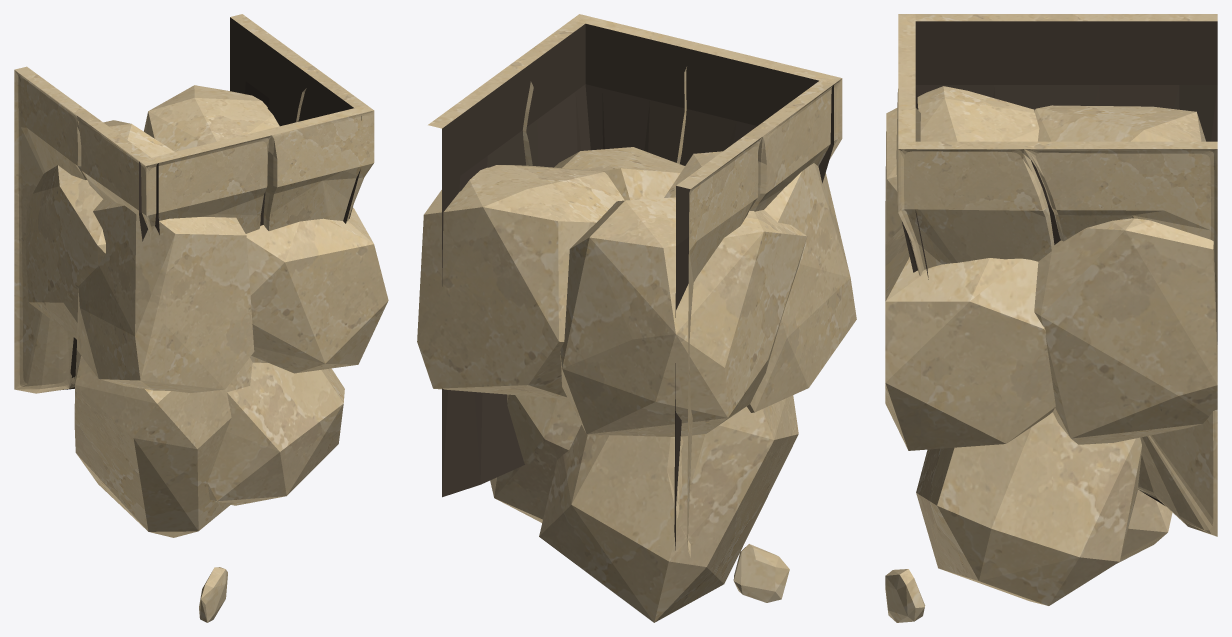
The model's file is ground_bottom_square_end_10.glb.
3 renders of one model, left to right at view 1: azimuth 30°, elevation 25°; view 2: azimuth 150°, elevation 25°; view 3: azimuth 270°, elevation 25°, orthographic. The views are drawn at different scales.
Visible parts, largest first — view 1: GroundBottomSquareEnd10_Body; view 2: GroundBottomSquareEnd10_Body; view 3: GroundBottomSquareEnd10_Body.
Boxes of the visible parts, <box> form: GroundBottomSquareEnd10_Body: <box>14,14,388,622</box>; GroundBottomSquareEnd10_Body: <box>417,14,856,622</box>; GroundBottomSquareEnd10_Body: <box>885,14,1217,622</box>.
Size of the model in its own units: 1.08 by 1.97 by 1.04.
Materials: 12 (11 with a texture image).
